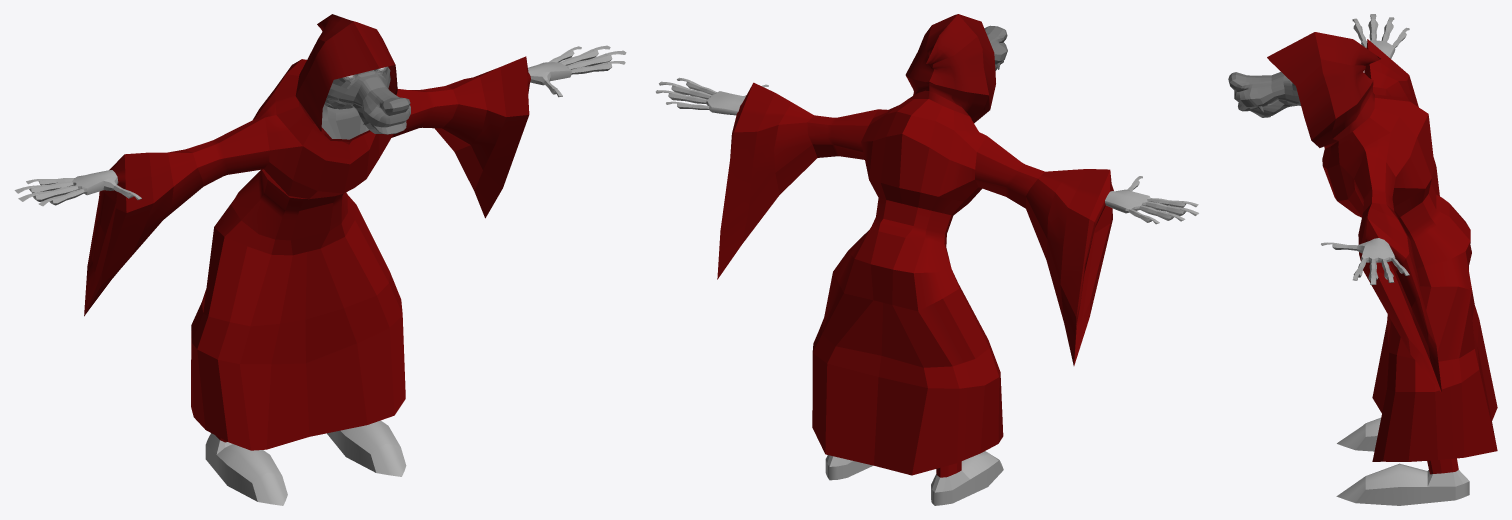
The model's file is Wolf2.fbx.
3 views of the same model, side by side, from view 1: azimuth 30°, elevation 25°; view 2: azimuth 150°, elevation 25°; view 3: azimuth 270°, elevation 25° (orthographic). The views are drawn at different scales.
Visible parts, largest first — view 1: Hand3:polySurface9; view 2: Hand3:polySurface9; view 3: Hand3:polySurface9.
Boxes of the visible parts, x1,y1,x2,y2 form: Hand3:polySurface9: (14,14,626,505); Hand3:polySurface9: (655,14,1198,505); Hand3:polySurface9: (1228,14,1497,505).
Bounding box in the file's own units: 6 × 4.54 × 2.53.
